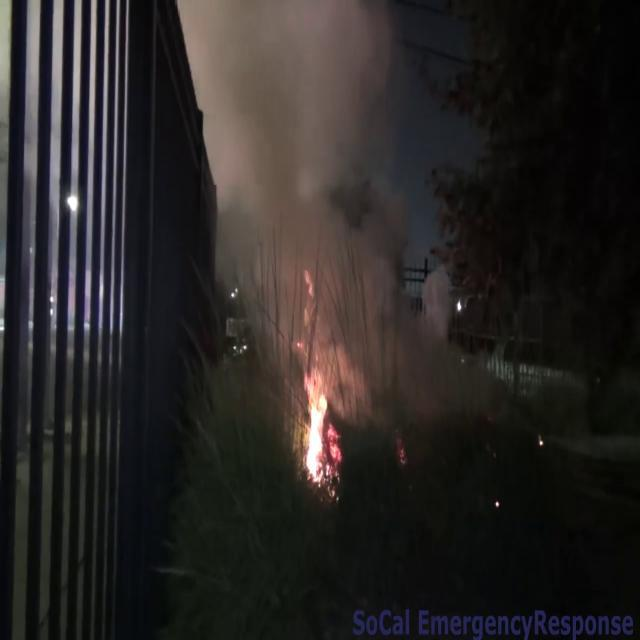Fire: (302, 366, 338, 489)
Smoke: (200, 0, 488, 414)
